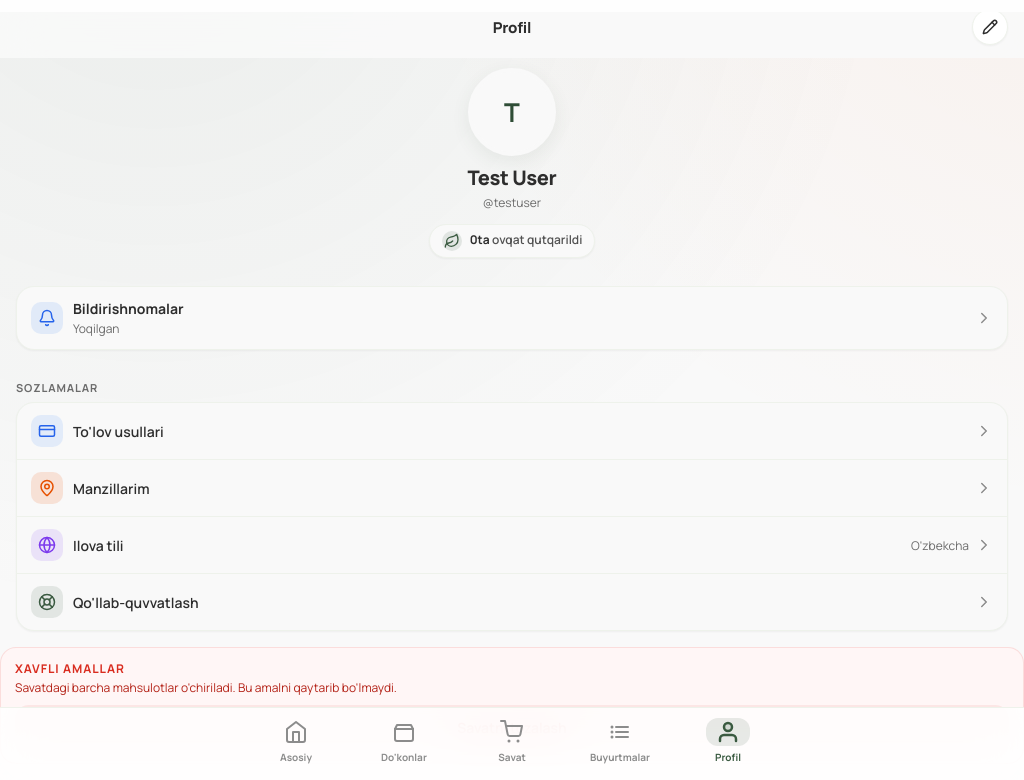
it: YanaPage › switches to notifications section
Click the button "Bildirishnomalar Yoqilgan" at (47, 318), box [16, 286, 1008, 350]
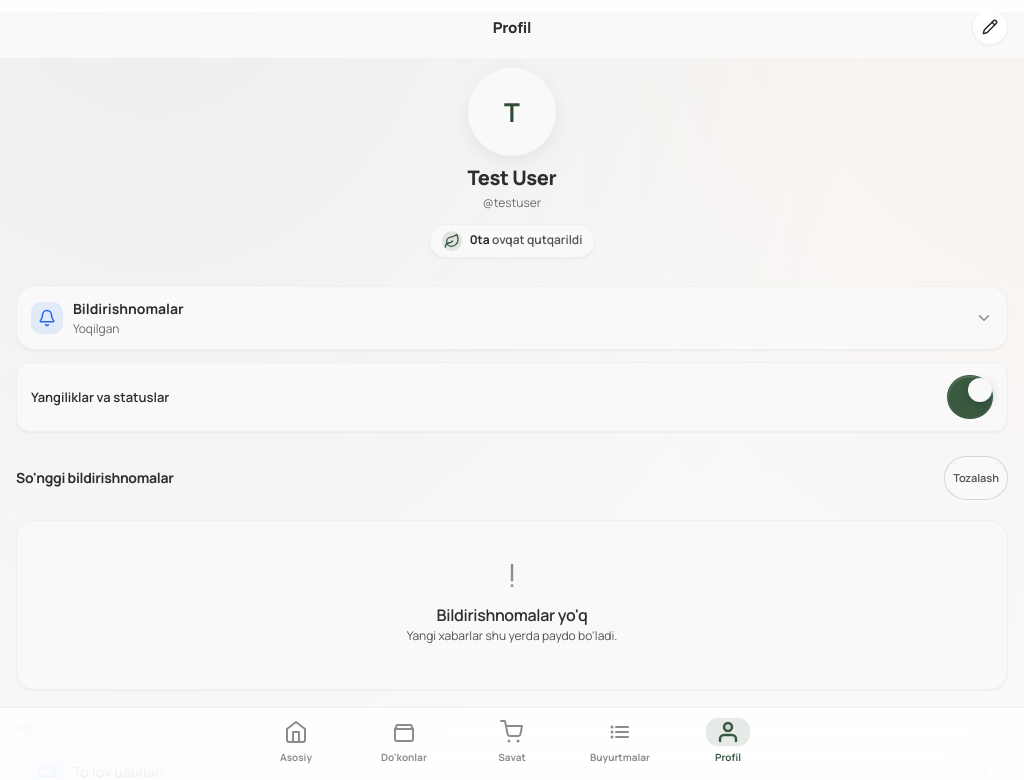
Expected: the heading "Bildirishnomalar yo'q" is shown, [436, 604, 587, 626]
